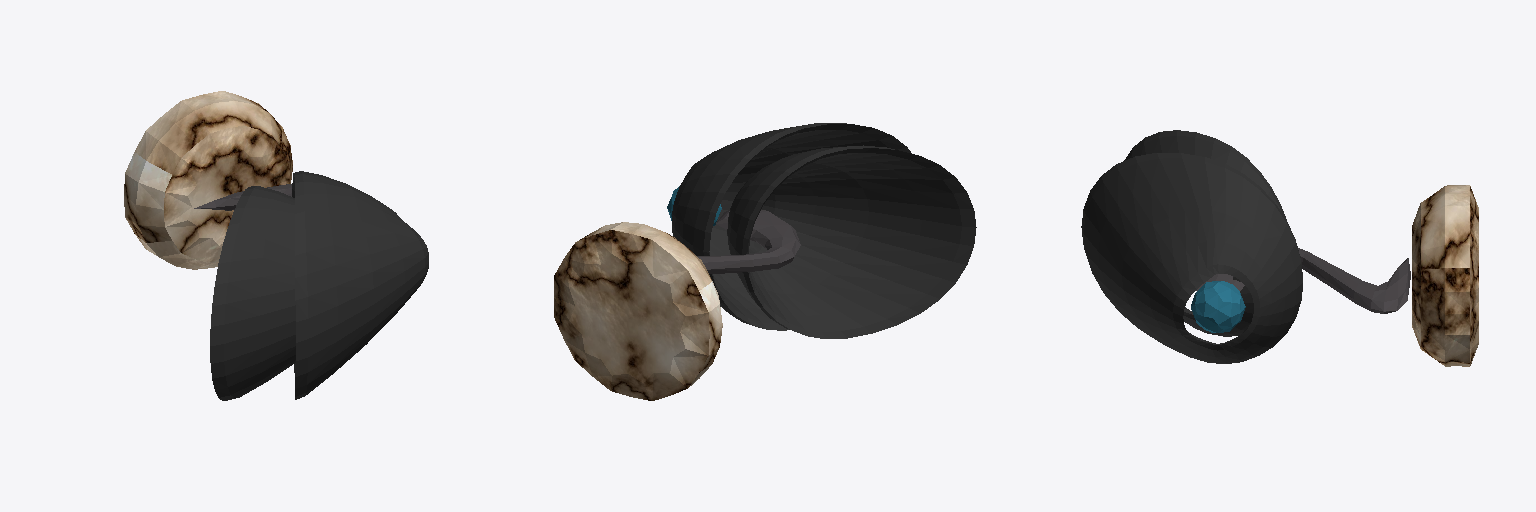
3 renders of one model, left to right at view 1: azimuth 30°, elevation 25°; view 2: azimuth 150°, elevation 25°; view 3: azimuth 270°, elevation 25°, orthographic.
Visible parts, largest first — view 1: Cone, Cylinder, Cone.001, Plane; view 2: Cone.001, Cylinder, Cone, Plane; view 3: Cone, Cylinder, Cone.001, Plane, Icosphere.
Part boxes in pixels (bbox=[...]): Cone: bbox=[292, 171, 428, 399]; Cylinder: bbox=[124, 91, 292, 269]; Cone.001: bbox=[210, 186, 295, 400]; Plane: bbox=[194, 184, 291, 210]; Cone.001: bbox=[727, 145, 976, 338]; Cylinder: bbox=[554, 222, 722, 400]; Cone: bbox=[672, 123, 911, 330]; Plane: bbox=[697, 210, 800, 273]; Cone: bbox=[1081, 153, 1302, 363]; Cylinder: bbox=[1412, 185, 1478, 366]; Cone.001: bbox=[1124, 130, 1286, 336]; Plane: bbox=[1196, 248, 1410, 313]; Icosphere: bbox=[1191, 281, 1245, 332].
Size of the model in its own units: 1.51 by 1.13 by 2.05.
Materials: 4 (1 with a texture image).